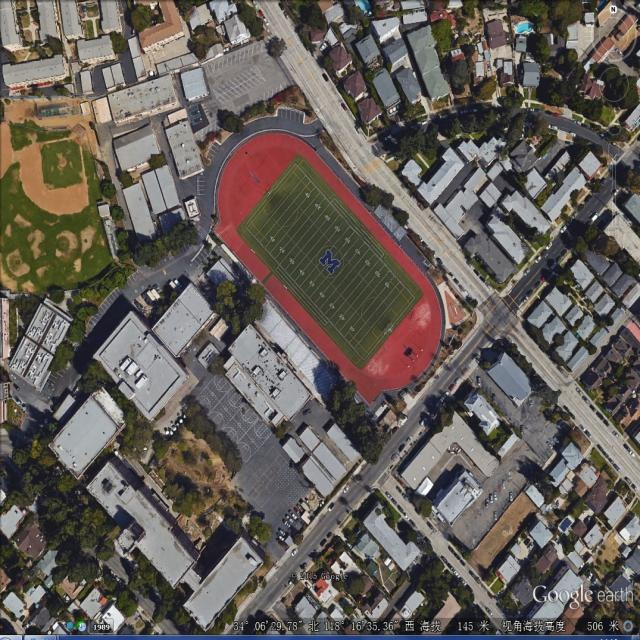playground: (209, 129, 446, 411)
